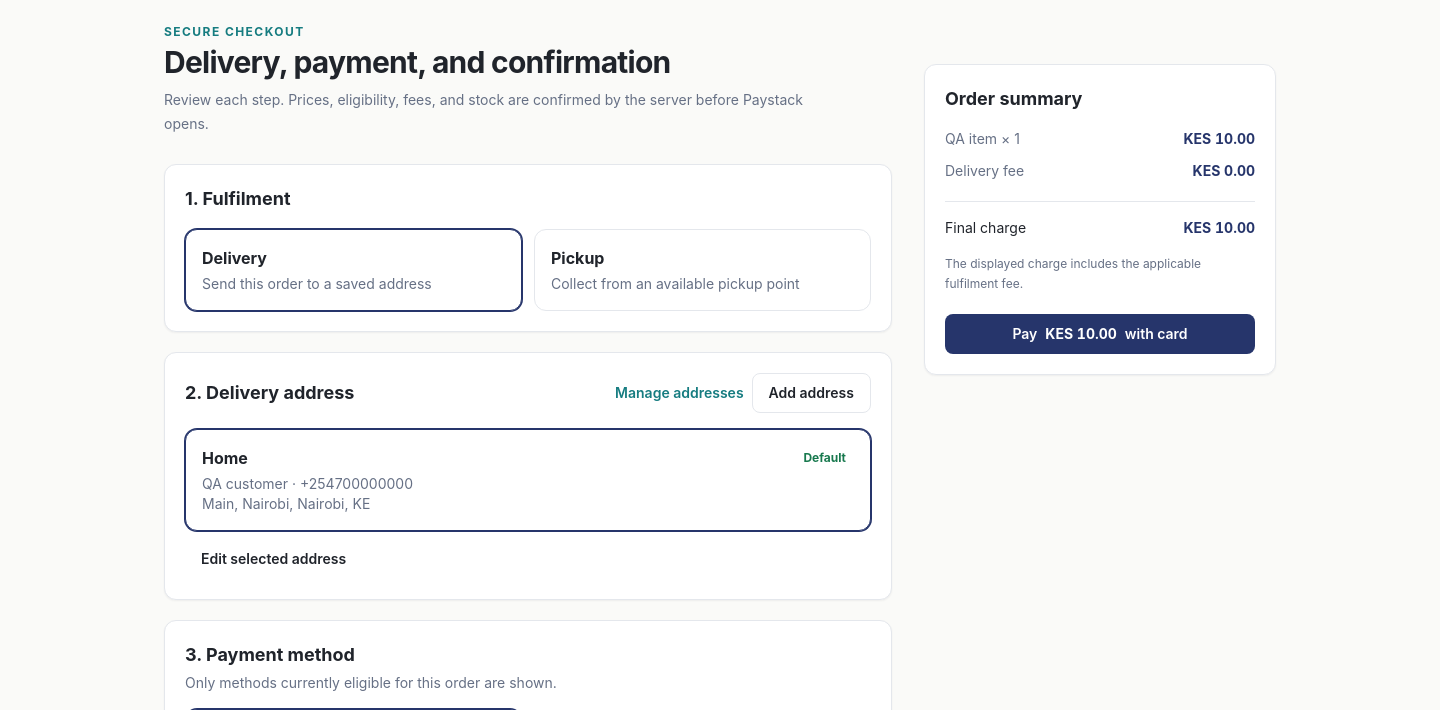
Test: CheckoutPage fulfilment contract › refreshes the server delivery quote after editing the selected address
Click the button "Edit selected address": (274, 559) x1=185 y1=539 x2=362 y2=579
(page scrolled)
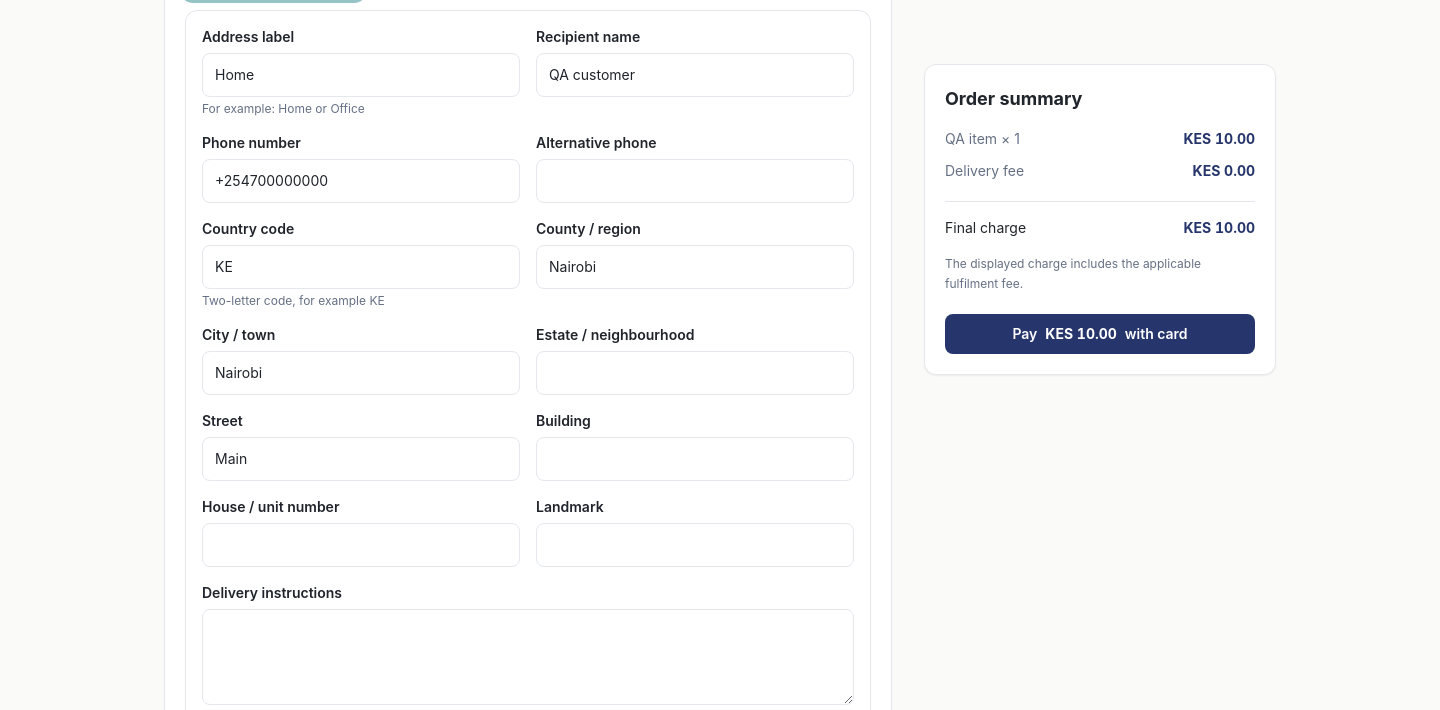
Replace the text in the field labelled "City / town" with "Mombasa": (361, 373) x1=202 y1=351 x2=520 y2=395
(page scrolled)
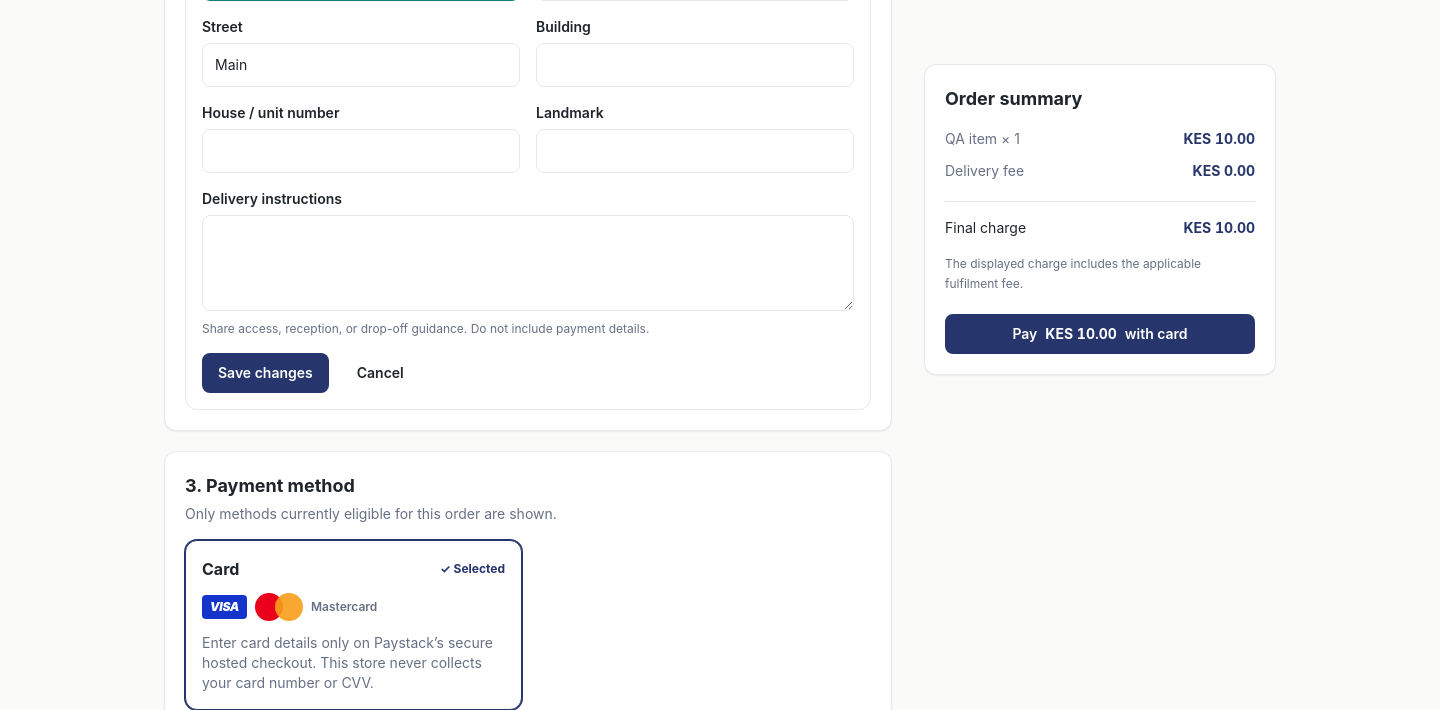
Click the button "Save changes": (265, 373) x1=202 y1=353 x2=329 y2=393
(page scrolled)
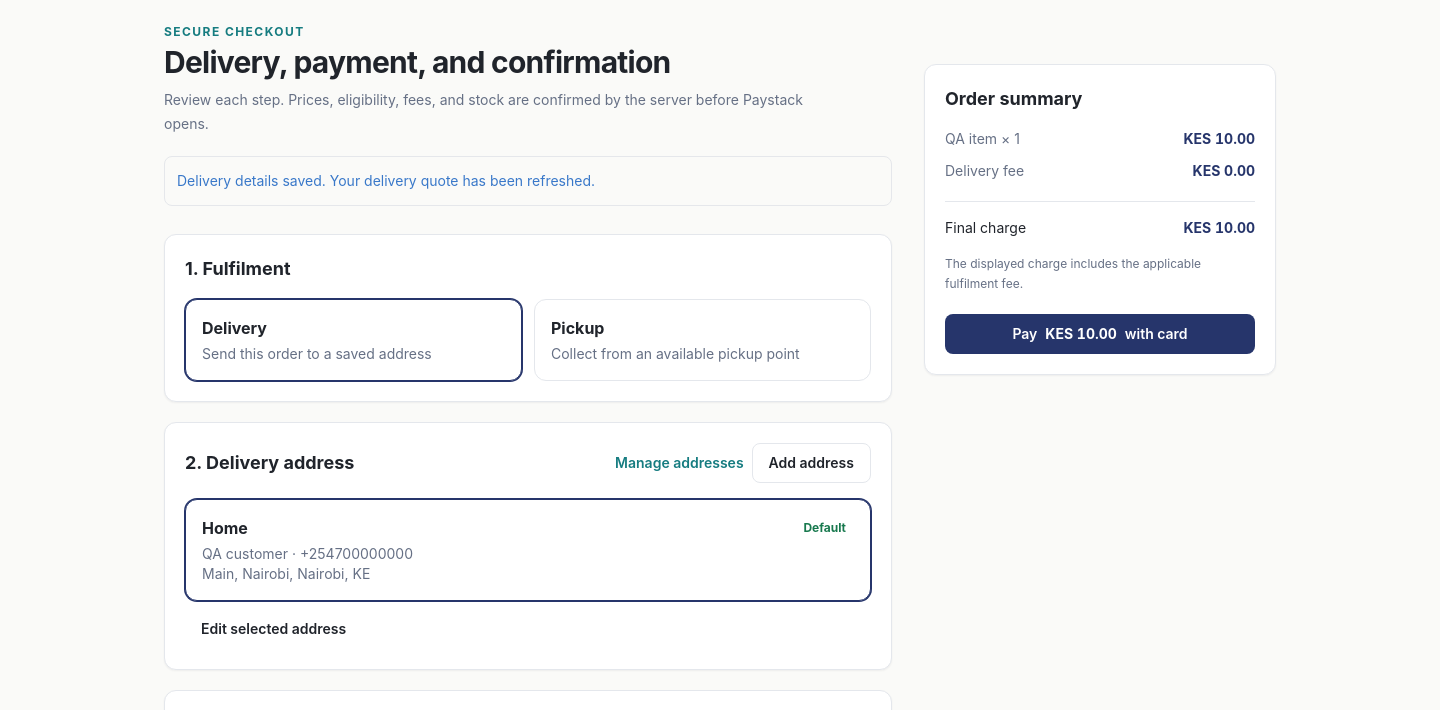
Now the text "Delivery details saved. Your delivery quote has been refreshed." is shown, box x1=164 y1=156 x2=892 y2=206
